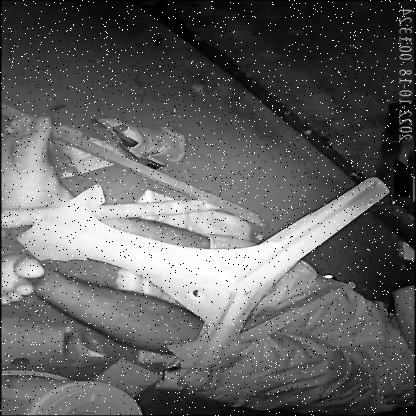leg: (0, 244, 202, 353), (0, 107, 81, 209)
